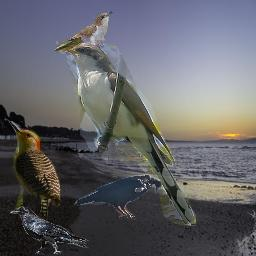Crow: (73, 174, 162, 220), (10, 206, 91, 255)
Cuckoo: (56, 41, 196, 226), (53, 11, 113, 52)
Woodpecker: (9, 121, 61, 222)
